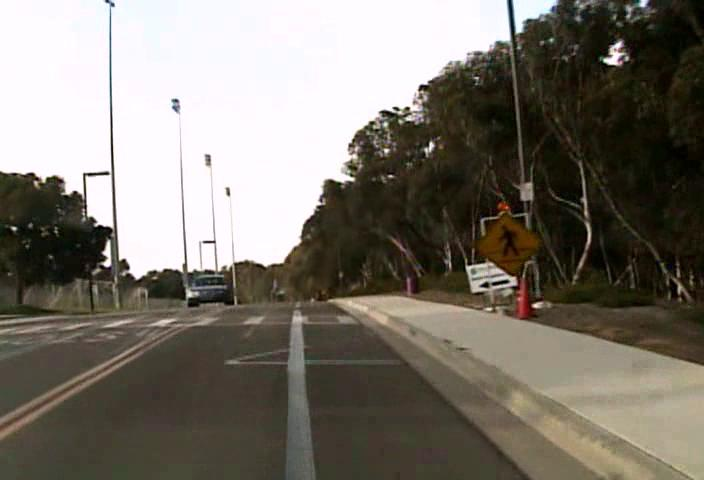pedestrianCrossing: (475, 209, 541, 276)
